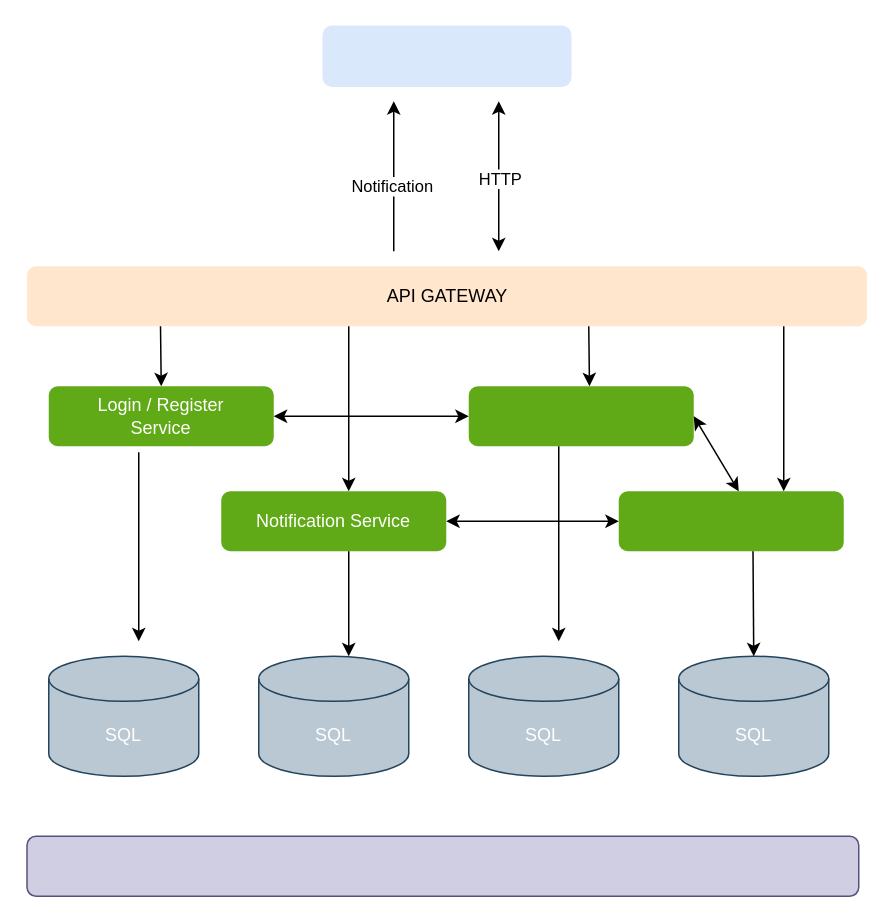
This 893x923 diagram has some shape labels left out. Here are the shapes that lost their labels. From the top down, the box of each, then its label:
(322, 25, 571, 86): Mobile UI
(468, 386, 693, 446): Account Management Service
(618, 490, 843, 550): Loan Service
(26, 835, 859, 896): Event Store / Message Queue
